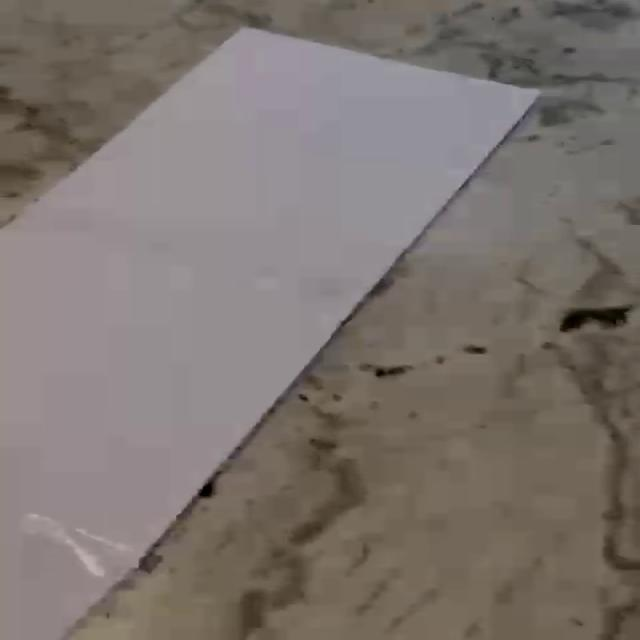road: (1, 29, 537, 640)
